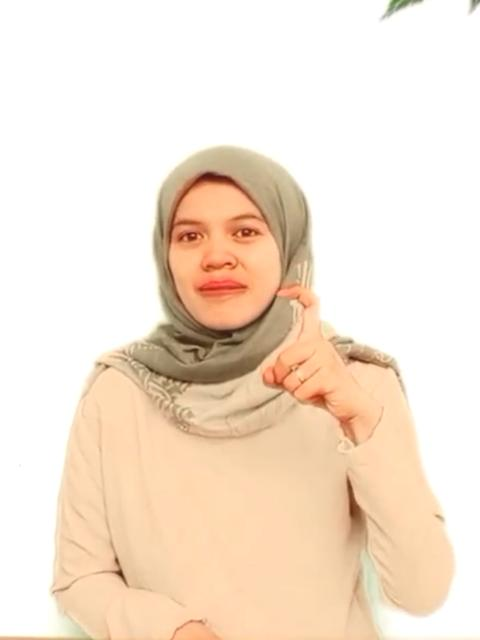X: (255, 276, 366, 436)
